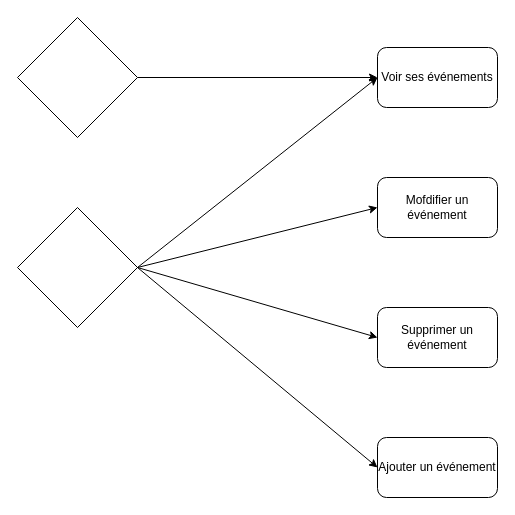
Image size: 515x515. Some labels were removed from this diagram. Here are the shapes that lost their labels. From the top down, the centre of each, then its label:
At (77,77): "Elèves".
At (77,267): "Tuteur".
